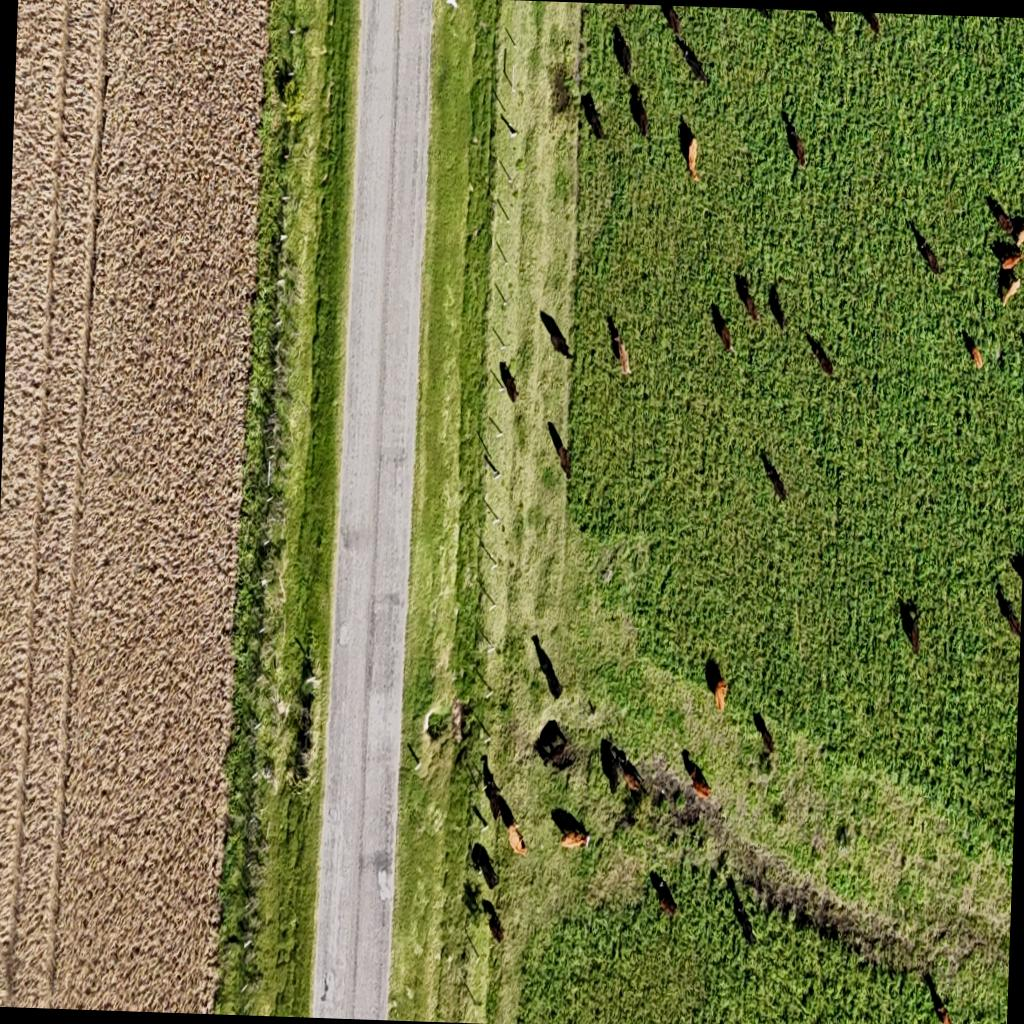cow: (479, 756, 525, 854), (424, 696, 468, 752), (529, 632, 563, 700), (597, 737, 635, 797), (534, 719, 574, 771), (551, 806, 594, 854), (920, 969, 956, 1024), (604, 314, 634, 378), (682, 748, 716, 802), (758, 448, 790, 504), (540, 311, 576, 360), (469, 841, 502, 893), (647, 869, 679, 922), (544, 418, 573, 476), (677, 116, 703, 180), (995, 580, 1022, 640), (627, 80, 652, 140), (898, 597, 923, 655), (580, 90, 607, 142), (610, 22, 634, 78), (679, 43, 709, 86), (710, 302, 734, 352), (784, 120, 808, 170), (986, 194, 1014, 234), (810, 336, 836, 378), (996, 262, 1020, 306), (768, 280, 788, 332), (734, 902, 756, 948), (497, 360, 519, 404), (703, 656, 724, 694), (658, 5, 681, 37), (484, 909, 504, 944), (812, 10, 835, 36), (742, 286, 758, 322), (676, 40, 694, 70), (605, 312, 620, 347), (723, 873, 738, 907), (860, 12, 880, 36), (580, 89, 596, 117), (760, 730, 775, 756), (424, 718, 441, 740), (1022, 330, 1024, 371)
